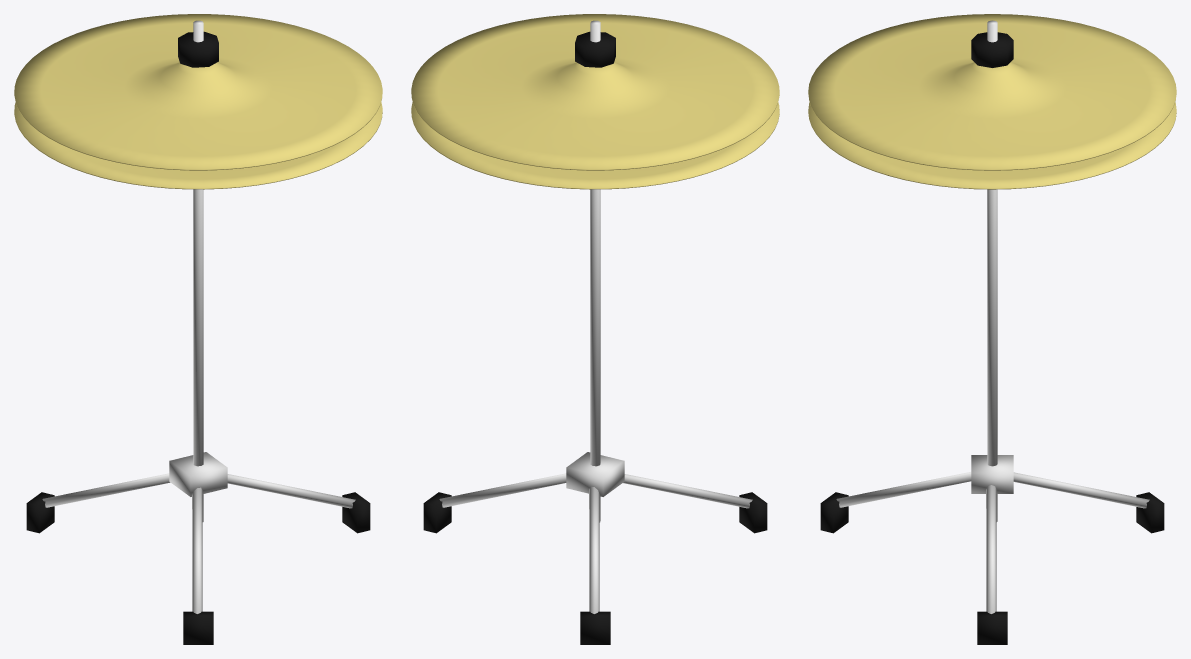
The model's file is High Hat with Stand.fbx.
3 views of the same model, side by side, from view 1: azimuth 30°, elevation 25°; view 2: azimuth 150°, elevation 25°; view 3: azimuth 270°, elevation 25° (orthographic).
Visible parts, largest first — view 1: High Hat Top, High Hat bottom, Floor Stand.003, Cylinder.004, Cube.006, Cylinder.005; view 2: High Hat Top, High Hat bottom, Floor Stand.003, Cylinder.004, Cube.006, Cylinder.005; view 3: High Hat Top, High Hat bottom, Floor Stand.003, Cylinder.004, Cube.006, Cylinder.005.
Part boxes in pixels (box(x1,y1,x2,y2)): High Hat Top: box(14, 14, 382, 170); High Hat bottom: box(14, 102, 382, 189); Floor Stand.003: box(26, 473, 370, 644); Cylinder.004: box(193, 20, 203, 521); Cube.006: box(169, 452, 227, 496); Cylinder.005: box(178, 31, 218, 67); High Hat Top: box(411, 14, 779, 170); High Hat bottom: box(411, 102, 779, 189); Floor Stand.003: box(423, 473, 767, 644); Cylinder.004: box(590, 20, 600, 522); Cube.006: box(566, 452, 624, 496); Cylinder.005: box(575, 31, 615, 67); High Hat Top: box(808, 14, 1176, 170); High Hat bottom: box(808, 102, 1176, 189); Floor Stand.003: box(820, 472, 1164, 644); Cylinder.004: box(987, 20, 997, 521); Cube.006: box(971, 455, 1013, 493); Cylinder.005: box(971, 32, 1013, 67).
Bounding box in the file's own units: 35.5 × 56.81 × 35.
